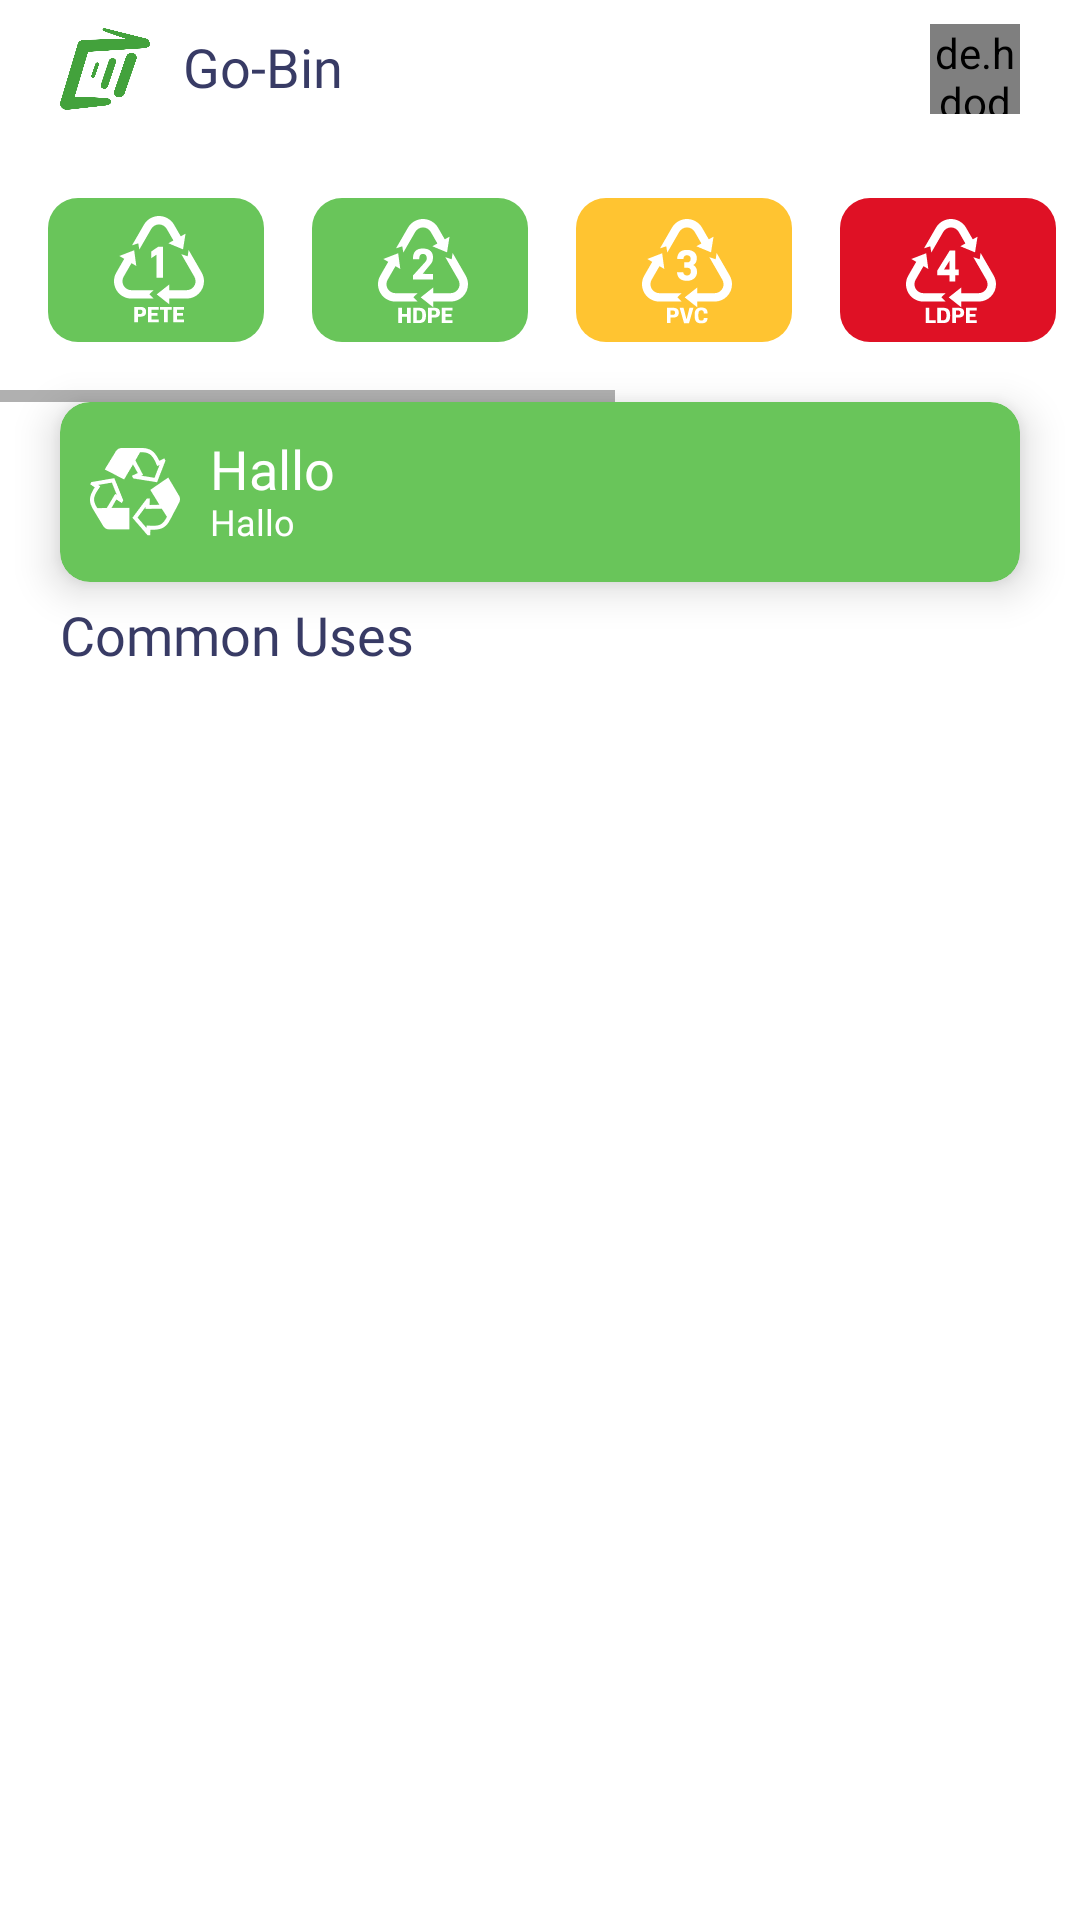

Named icons in this screenshot (1080 × 1920) and their bounding boxes, rect(x1, y1, x2, y2):
recycler: rect(90, 448, 180, 536)
